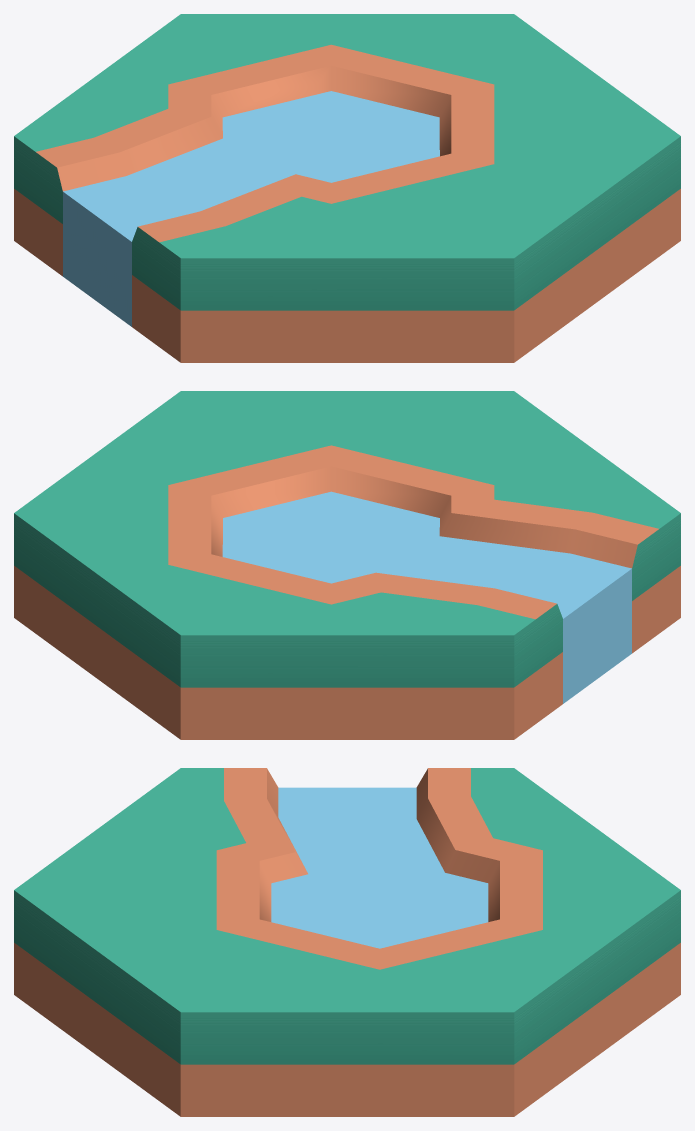
The model's file is river-start.glb.
The picture shows the model from 3 angles, top to bottom: view 1: azimuth 30°, elevation 25°; view 2: azimuth 150°, elevation 25°; view 3: azimuth 270°, elevation 25°; orthographic projection.
Parts seen in each view (by area): view 1: river-start; view 2: river-start; view 3: river-start.
Part boxes in pixels (box(x1,y1,x2,y2)): river-start: box(14, 14, 680, 362); river-start: box(14, 391, 680, 739); river-start: box(14, 768, 680, 1116).
Size of the model in its own units: 1 by 0.2 by 1.15.
Materials: 1 (1 with a texture image).
